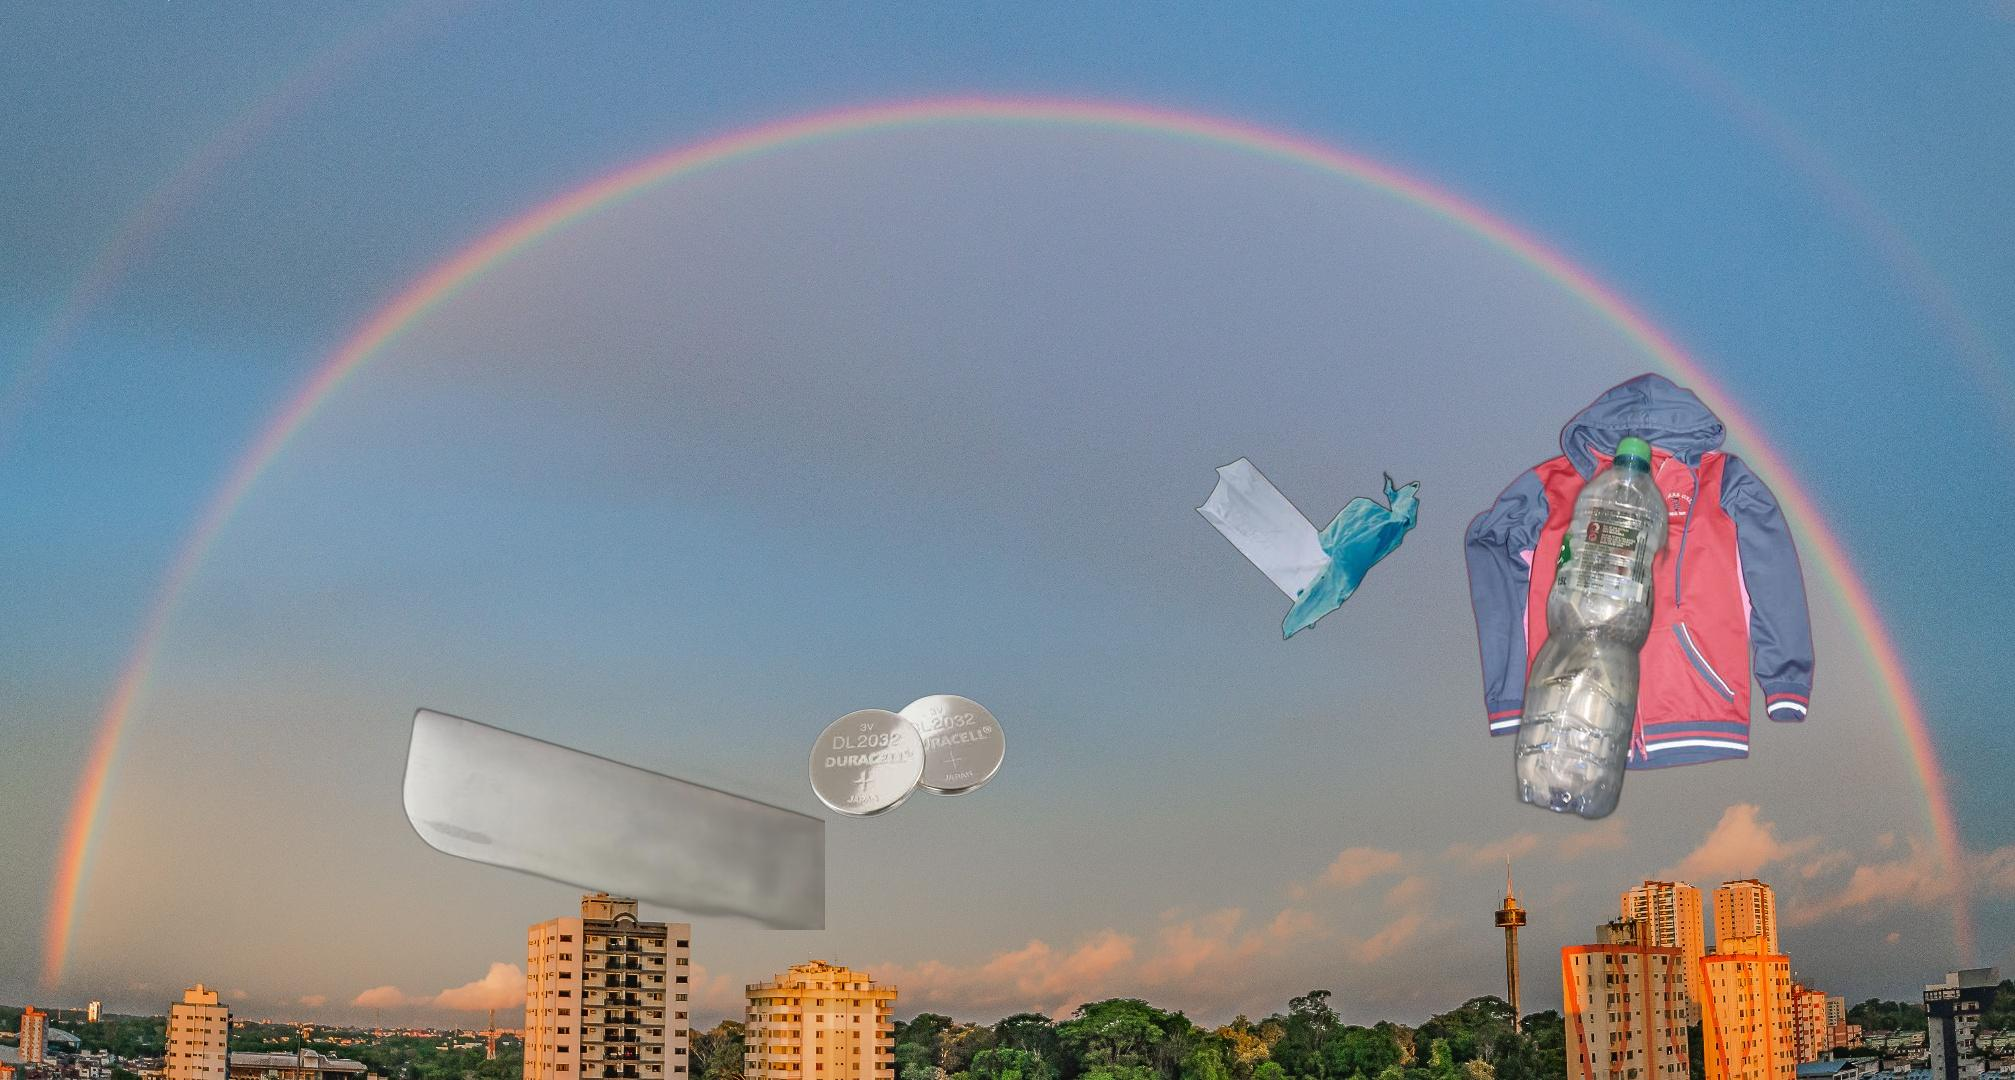battery: (769, 691, 1007, 843)
clothes: (1461, 368, 1818, 775)
paper: (398, 704, 825, 931)
plastic-bag: (1191, 453, 1423, 643)
plastic-bottles: (1507, 379, 1682, 827)
